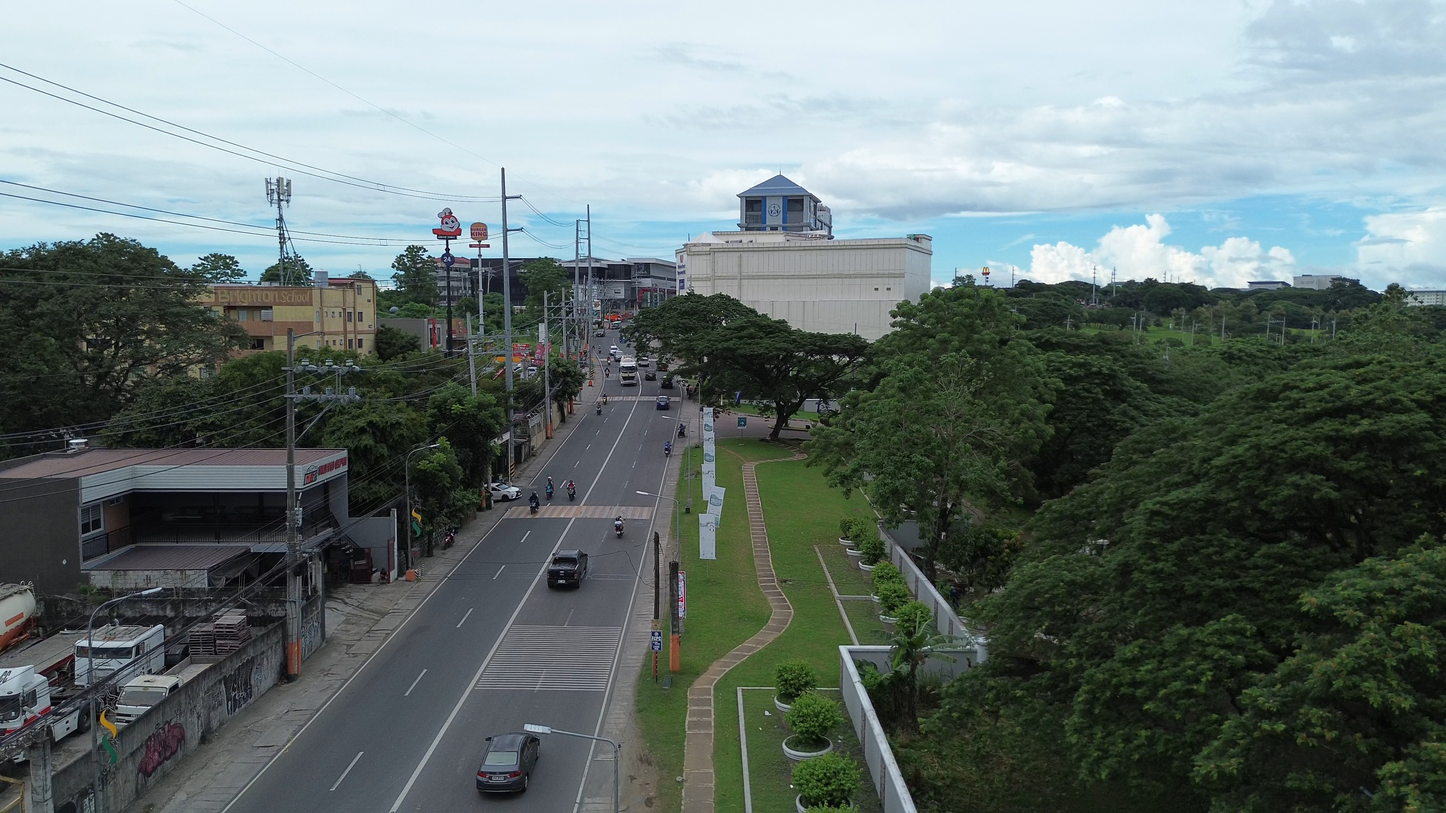car: (476, 732, 540, 792), (486, 483, 520, 501), (656, 395, 670, 410), (660, 376, 674, 388), (637, 356, 650, 367), (644, 370, 656, 380), (595, 329, 606, 337)
motorcycle: (442, 529, 455, 550), (529, 492, 539, 513), (614, 518, 624, 537), (545, 484, 553, 501), (665, 442, 672, 457), (677, 424, 685, 437)
truck: (0, 632, 90, 740), (113, 657, 208, 726)
vehicle: (74, 624, 165, 686), (0, 665, 63, 735), (113, 674, 183, 726), (0, 583, 36, 651), (547, 550, 587, 587), (619, 357, 638, 386), (614, 516, 624, 537), (637, 356, 650, 368), (609, 346, 620, 357)
